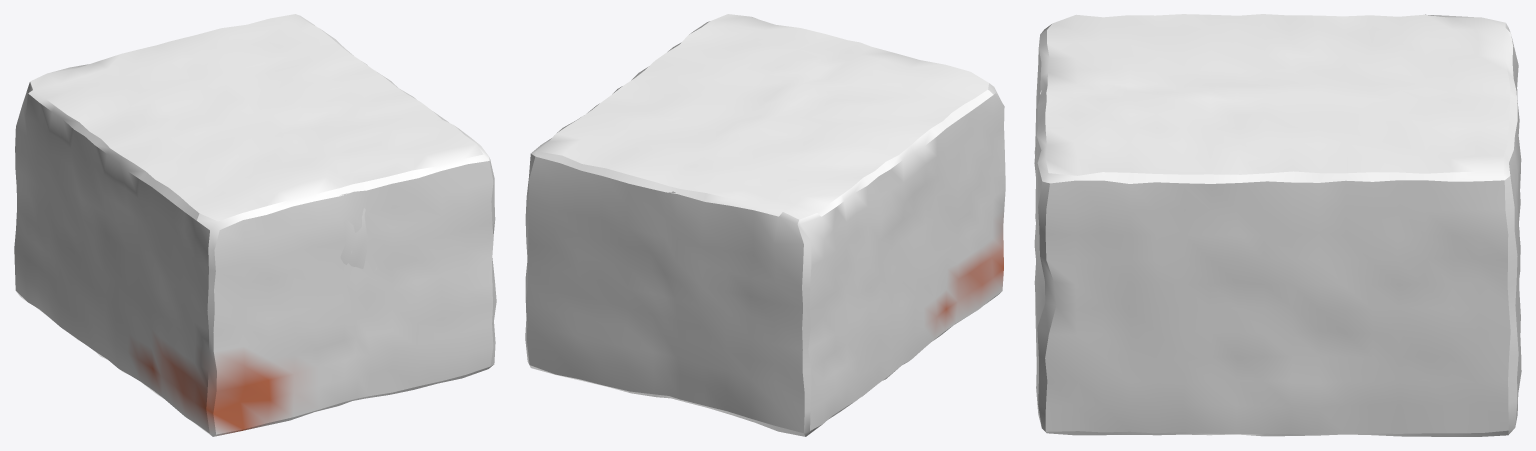
Rendered from closedbox.fbx.
3 views of the same model, side by side, from view 1: azimuth 30°, elevation 25°; view 2: azimuth 150°, elevation 25°; view 3: azimuth 270°, elevation 25° (orthographic). The views are drawn at different scales.
Parts seen in each view (by area): view 1: closed_box; view 2: closed_box; view 3: closed_box.
Part boxes in pixels (x1=…): closed_box: x1=14, y1=14, x2=496, y2=436; closed_box: x1=525, y1=14, x2=1005, y2=436; closed_box: x1=1034, y1=14, x2=1521, y2=436.
Size of the model in its own units: 2.98 by 2.18 by 3.59.
